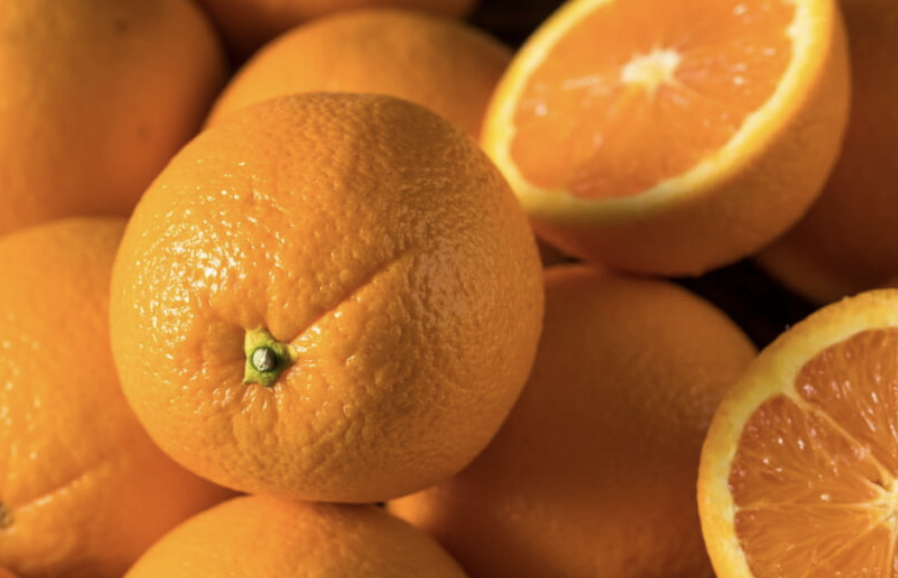orange: (56, 62, 564, 525)
